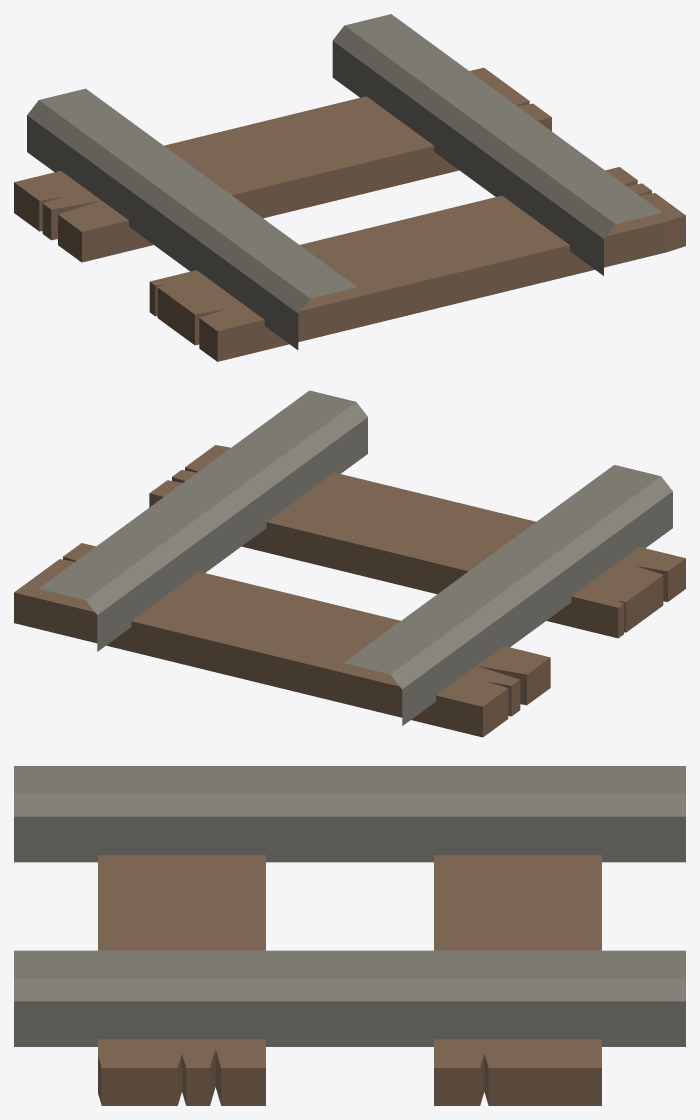
The model's file is Cave_Prop_Railway_Straight_4.glb.
3 renders of one model, top to bottom at view 1: azimuth 30°, elevation 25°; view 2: azimuth 150°, elevation 25°; view 3: azimuth 270°, elevation 25°, orthographic. The views are drawn at different scales.
Parts seen in each view (by area): view 1: Cave_Prop_Railway_Straight_4; view 2: Cave_Prop_Railway_Straight_4; view 3: Cave_Prop_Railway_Straight_4.
Boxes of the visible parts, bbox=[...] form: Cave_Prop_Railway_Straight_4: bbox=[14, 14, 685, 361]; Cave_Prop_Railway_Straight_4: bbox=[14, 390, 685, 737]; Cave_Prop_Railway_Straight_4: bbox=[14, 766, 685, 1105].
Bounding box in the file's own units: 1 × 0.15 × 1.
